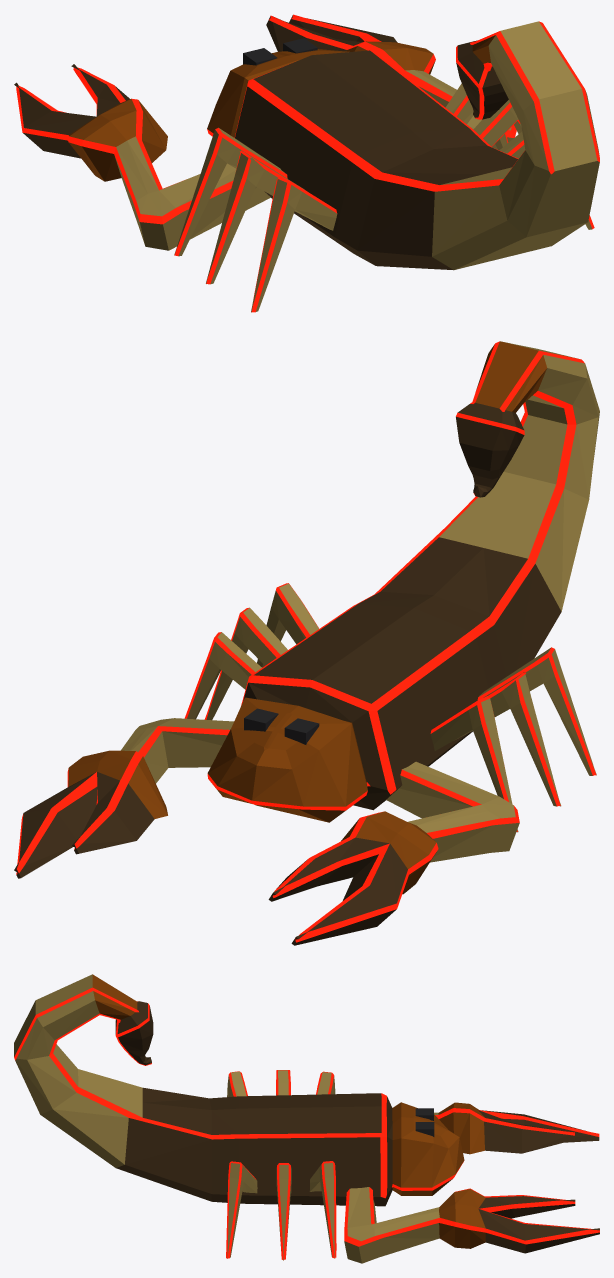
The model's file is EG_ObsMovible.fbx.
3 renders of one model, top to bottom at view 1: azimuth 30°, elevation 25°; view 2: azimuth 150°, elevation 25°; view 3: azimuth 270°, elevation 25°, orthographic. The views are drawn at different scales.
Visible parts, largest first — view 1: Scorpion; view 2: Scorpion; view 3: Scorpion.
Part boxes in pixels (bbox=[...]): Scorpion: bbox=[14, 14, 599, 312]; Scorpion: bbox=[14, 341, 599, 945]; Scorpion: bbox=[14, 974, 599, 1263].
Bounding box in the file's own units: 107 × 85.8 × 206.
